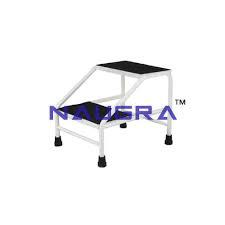stool: (46, 59, 179, 170)
